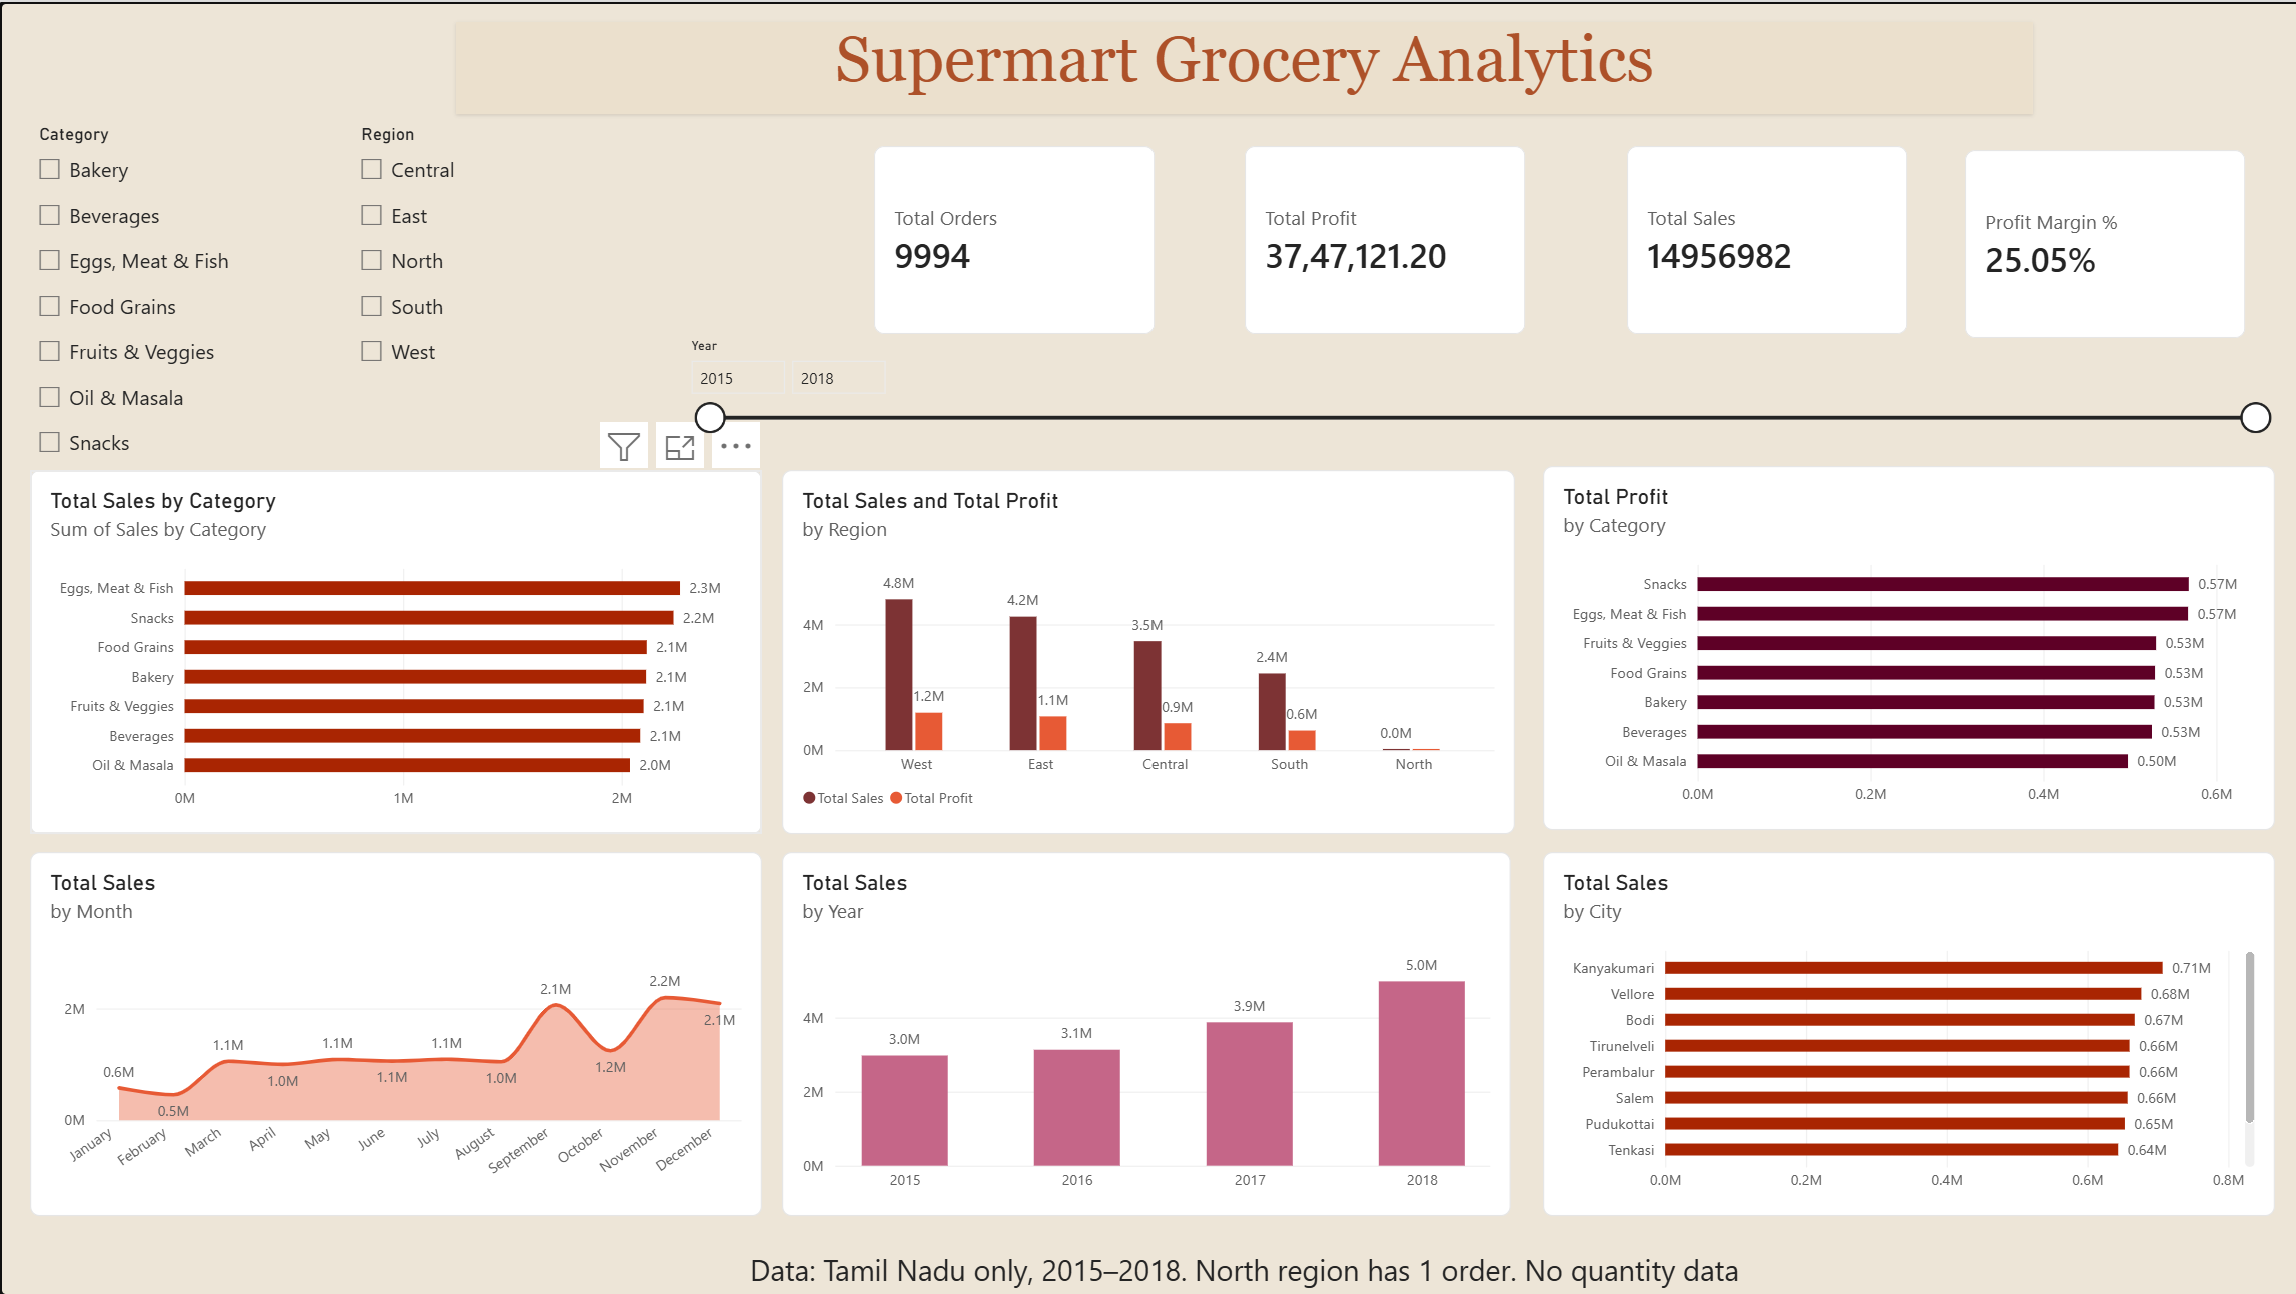

The page's visual inventory and layout, read from the dashboard file:
{"tool":"powerbi","page":{"name":"Page 1","canvas":[1920,1080],"ordinal":0},"visuals":[{"type":"cardVisual","fields":{"Data":["Supermart_Cleaned.Total Sales"]},"box":[1357,120.7,235,157.8],"z":0},{"type":"cardVisual","fields":{"Data":["Supermart_Cleaned.Total Profit"]},"box":[1038.1,120.7,235,157.8],"z":1000},{"type":"cardVisual","fields":{"Data":["Supermart_Cleaned.Total Orders"]},"box":[729.3,120.7,235,157.8],"z":2000},{"type":"cardVisual","fields":{"Data":["Supermart_Cleaned.Profit Margin %"]},"box":[1639,124,235,157.8],"z":3000},{"type":"barChart","title":"Total Sales by Category","fields":{"Category":["Supermart_Cleaned.Category"],"Y":["Sum(Supermart_Cleaned.Sales)"]},"box":[25,390.7,611.1,303.9],"z":4000},{"type":"barChart","fields":{"Category":["Supermart_Cleaned.Category"],"Y":["Supermart_Cleaned.Total Profit"]},"box":[1287.2,387.3,611.1,303.9],"z":5000},{"type":"lineChart","fields":{"Category":["Supermart_Cleaned.Month Start.Variation.Date Hierarchy.Year","Supermart_Cleaned.Month Start.Variation.Date Hierarchy.Quarter","Supermart_Cleaned.Month Start.Variation.Date Hierarchy.Month","Supermart_Cleaned.Month Start.Variation.Date Hierarchy.Day"],"Y":["Supermart_Cleaned.Total Sales"]},"box":[25,709.6,611.1,303.9],"z":6000},{"type":"clusteredColumnChart","fields":{"Category":["Supermart_Cleaned.Region"],"Y":["Supermart_Cleaned.Total Sales","Supermart_Cleaned.Total Profit"]},"box":[652.8,390.7,611.1,303.9],"z":7000},{"type":"barChart","fields":{"Category":["Supermart_Cleaned.City"],"Y":["Supermart_Cleaned.Total Sales"]},"box":[1287.2,709.6,611.1,303.9],"z":8000},{"type":"slicer","fields":{"Values":["Supermart_Cleaned.Year"]},"box":[569.3,280.5,1329,86.8],"z":9000},{"type":"slicer","fields":{"Values":["Supermart_Cleaned.Category"]},"box":[25,101.8,242.1,290.5],"z":10000},{"type":"slicer","fields":{"Values":["Supermart_Cleaned.Region"]},"box":[293.8,101.8,220.1,213.3],"z":11000},{"type":"textbox","box":[380.7,16.7,1315.6,76.8],"z":12000},{"type":"textbox","box":[614.4,1041.8,848.1,38.4],"z":13000},{"type":"columnChart","fields":{"Category":["Supermart_Cleaned.Year"],"Y":["Supermart_Cleaned.Total Sales"]},"box":[652.8,709.6,607.7,303.9],"z":14000}]}

Visuals, with their boxes in screenshot pixels (x1, y1, x2, y2), scaled from the page's 1920x1080 canvas onto the 2296x1294 screenshot:
cardVisual - Supermart_Cleaned.Total Sales: [x1=1623, y1=145, x2=1904, y2=334]
cardVisual - Supermart_Cleaned.Total Profit: [x1=1241, y1=145, x2=1522, y2=334]
cardVisual - Supermart_Cleaned.Total Orders: [x1=872, y1=145, x2=1153, y2=334]
cardVisual - Supermart_Cleaned.Profit Margin %: [x1=1960, y1=149, x2=2241, y2=338]
"Total Sales by Category" barChart: [x1=30, y1=468, x2=761, y2=832]
barChart - Supermart_Cleaned.Category x Supermart_Cleaned.Total Profit: [x1=1539, y1=464, x2=2270, y2=828]
lineChart - Supermart_Cleaned.Month Start.Variation.Date Hierarchy.Year x Supermart_Cleaned.Month Start.Variation.Date Hierarchy.Quarter: [x1=30, y1=850, x2=761, y2=1214]
clusteredColumnChart - Supermart_Cleaned.Region x Supermart_Cleaned.Total Sales: [x1=781, y1=468, x2=1511, y2=832]
barChart - Supermart_Cleaned.City x Supermart_Cleaned.Total Sales: [x1=1539, y1=850, x2=2270, y2=1214]
slicer - Supermart_Cleaned.Year: [x1=681, y1=336, x2=2270, y2=440]
slicer - Supermart_Cleaned.Category: [x1=30, y1=122, x2=319, y2=470]
slicer - Supermart_Cleaned.Region: [x1=351, y1=122, x2=615, y2=378]
textbox: [x1=455, y1=20, x2=2028, y2=112]
textbox: [x1=735, y1=1248, x2=1749, y2=1293]
columnChart - Supermart_Cleaned.Year x Supermart_Cleaned.Total Sales: [x1=781, y1=850, x2=1507, y2=1214]
